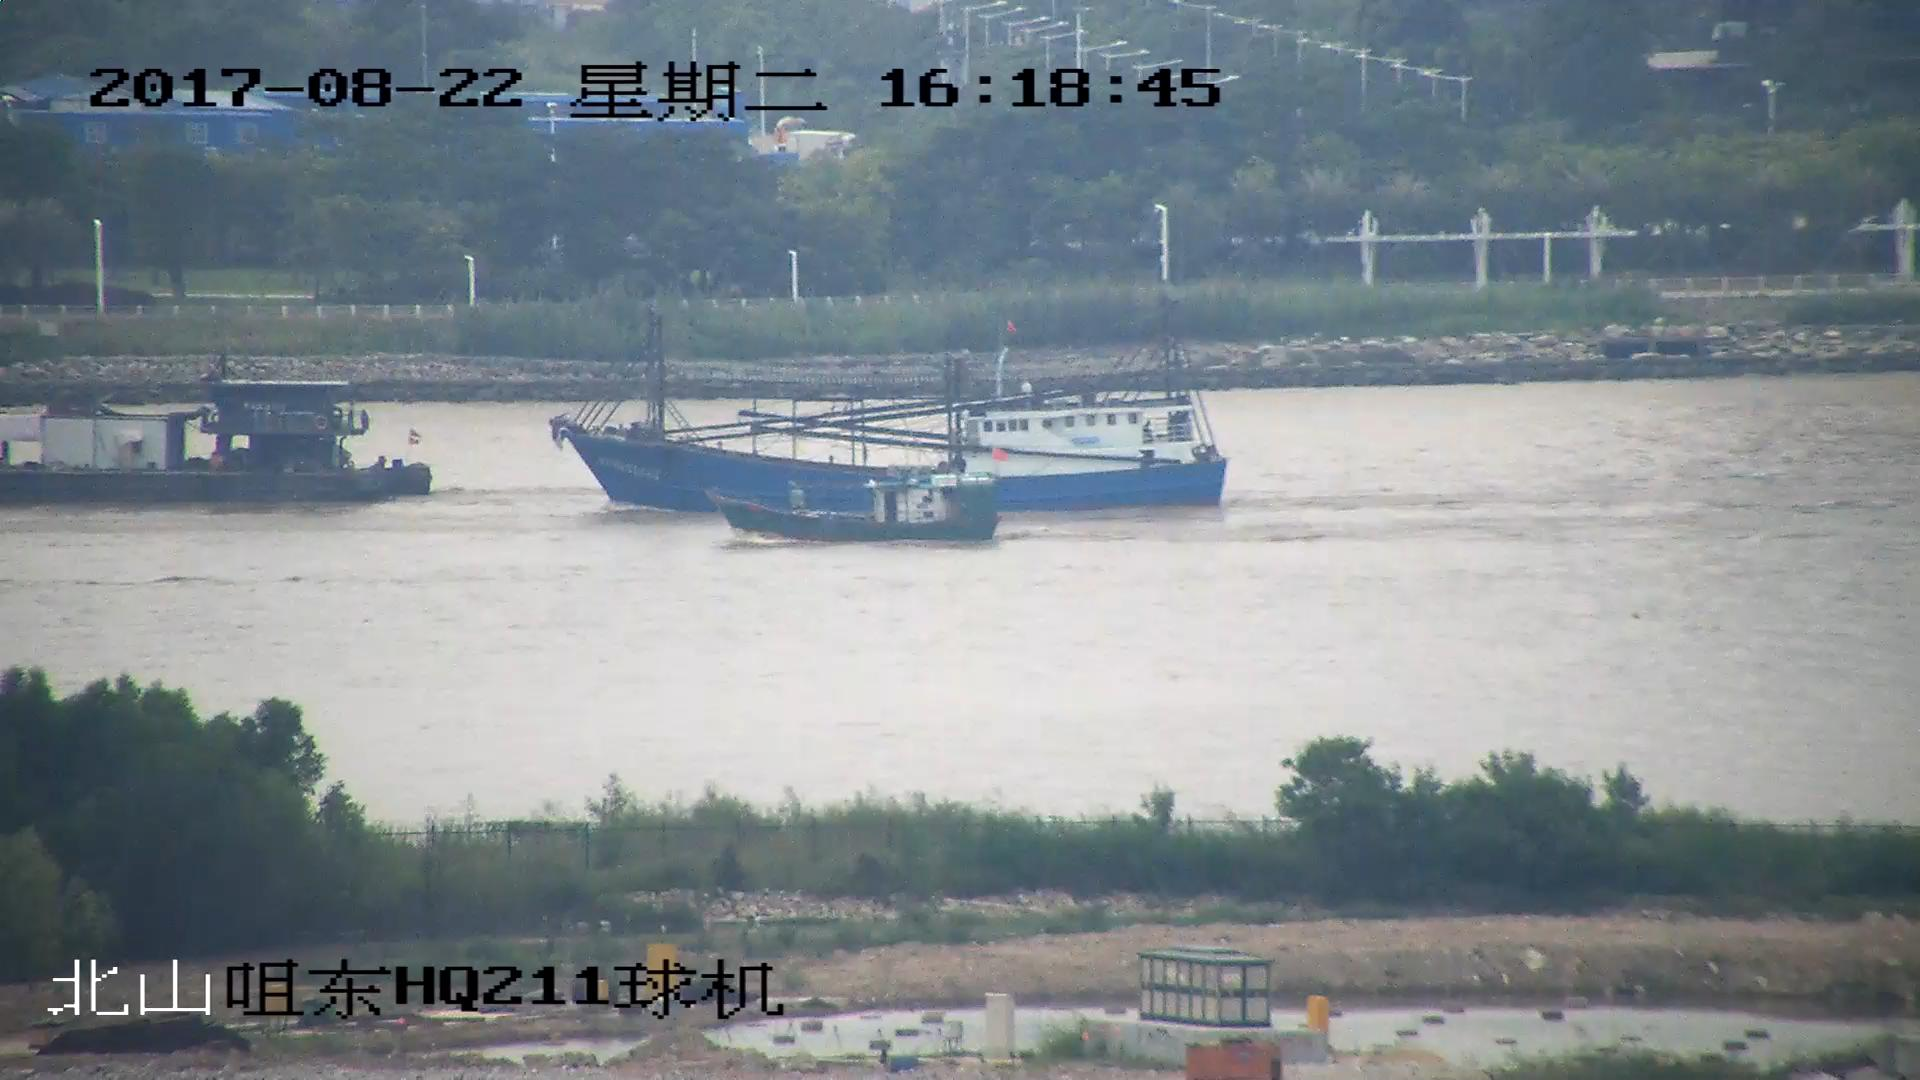bulk cargo carrier: (1, 371, 438, 505)
fishing boat: (550, 297, 1227, 524), (712, 456, 995, 546)
